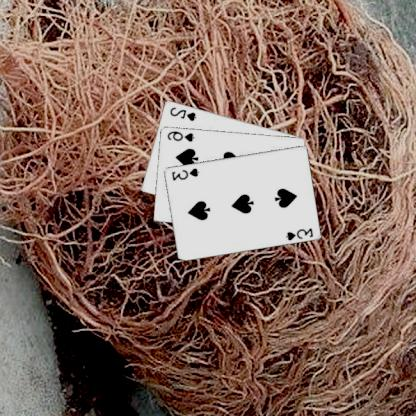2S: (169, 104, 199, 122)
3S: (170, 165, 202, 182), (285, 225, 316, 242)
6S: (167, 128, 197, 143)
